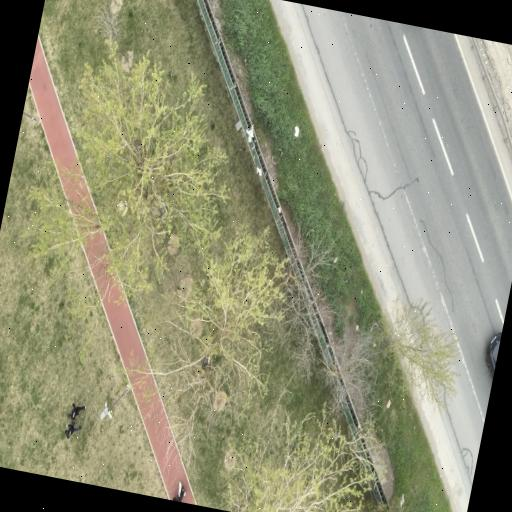car: (485, 332, 501, 375)
person: (68, 403, 84, 420), (172, 481, 185, 501), (64, 422, 80, 437)
